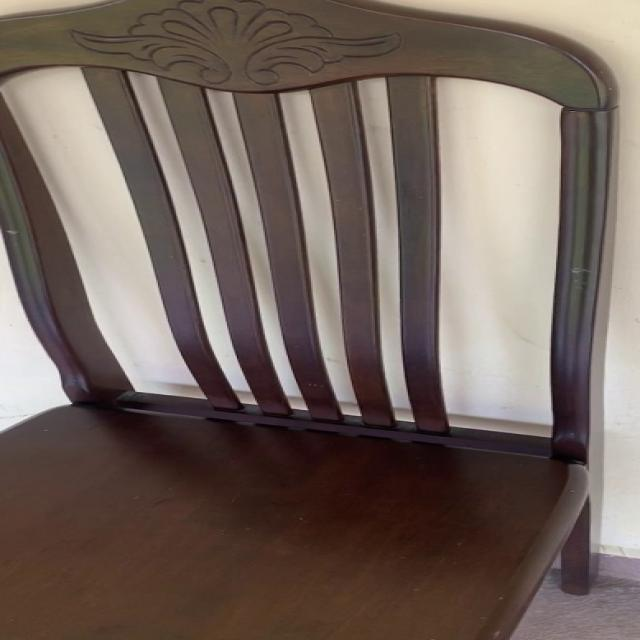chair: (5, 0, 617, 640)
